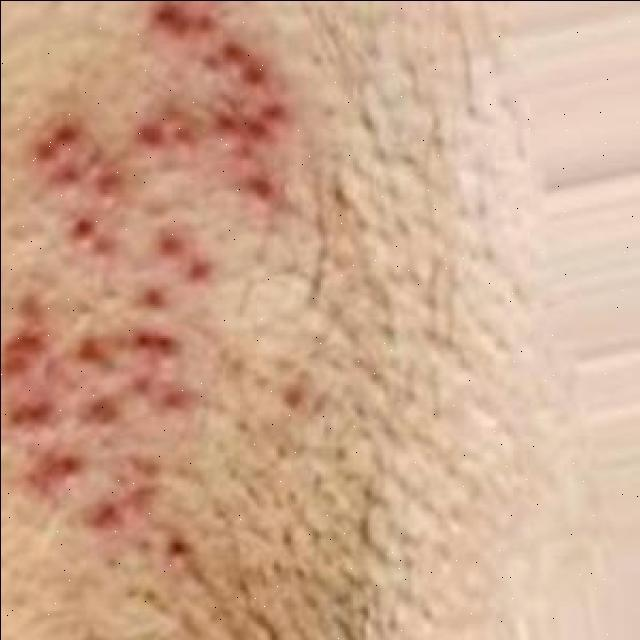Shingles: (0, 7, 294, 536)
